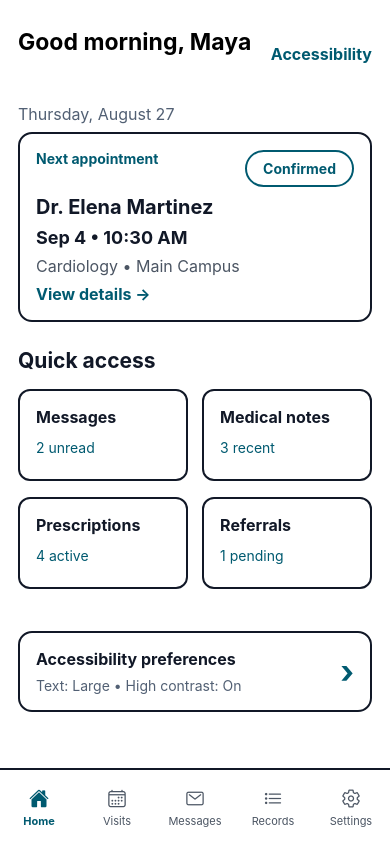
Scenario: DashboardScreen › provides prototype feedback for unavailable Quick Access tiles without navigating
Click the button with aria-label "Prescriptions, 4 active".
click(103, 543)  # box [18, 497, 188, 589]
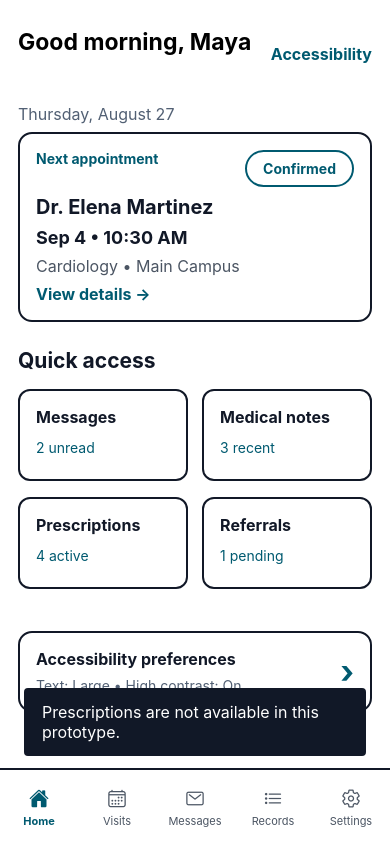
Expected: the text "Prescriptions are not available in this prototype." is shown, [42, 702, 348, 742]
Click the button with aria-label "Referrals, 1 pending".
click(287, 543)  # box [202, 497, 372, 589]
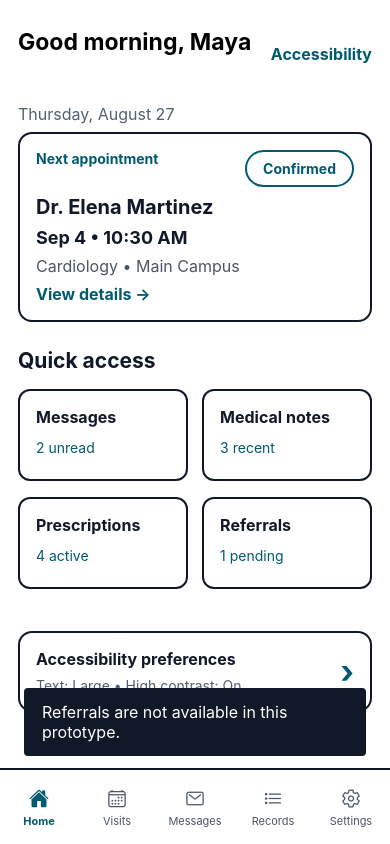
Expected: the text "Referrals are not available in this prototype." is shown, [42, 702, 292, 742]
